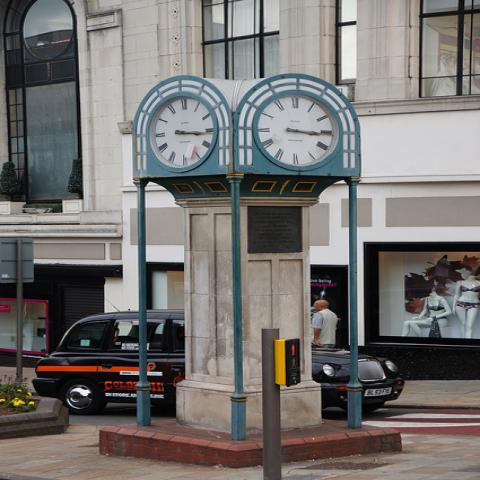car: (31, 309, 407, 414)
